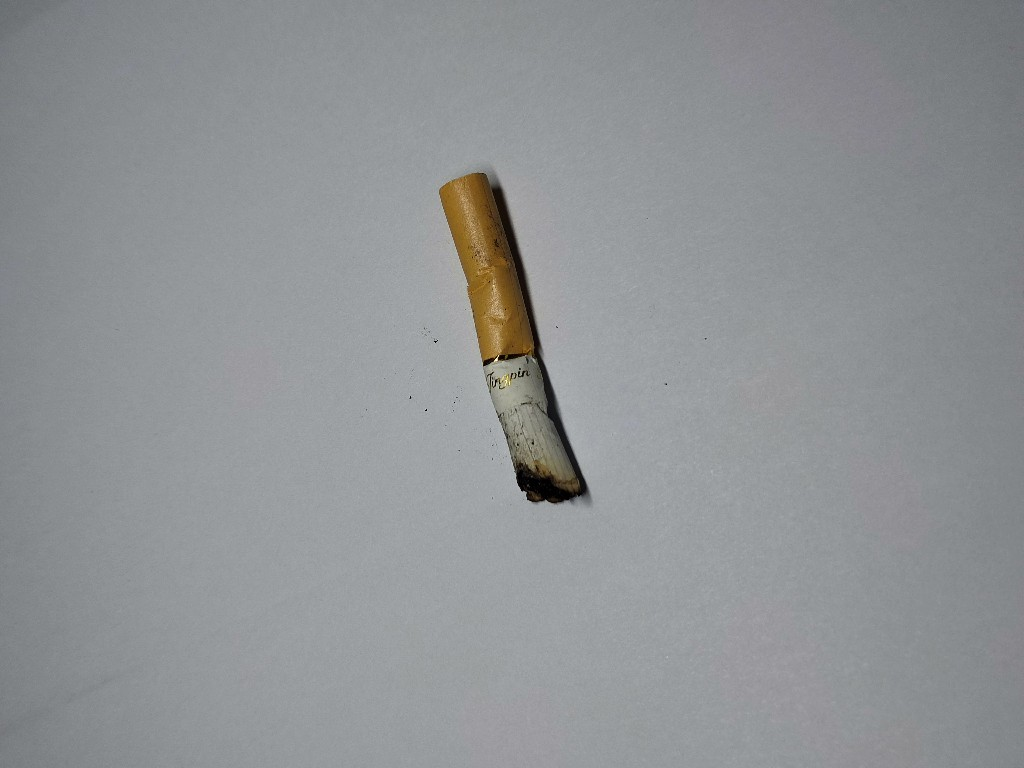cigarette: (434, 168, 596, 508)
